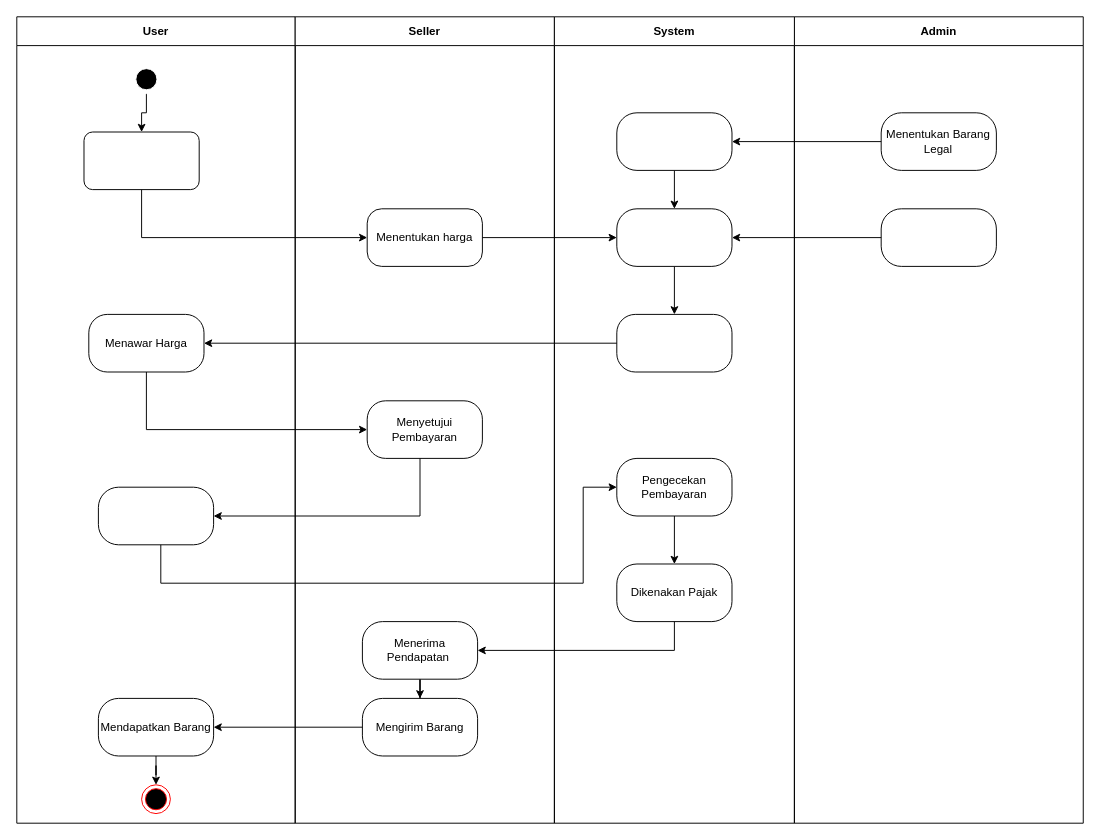
Some shapes in this 1100 by 840 pixel diagram are drawn without their labels. The shapes that lost their labels are listed below. From the top down, each one's centre as x and y in pixels, then its label:
point 141,160: Login/Register
point 674,141: Index Barang Legal
point 674,237: Menyimpan data Harga
point 938,237: Menentukan batasan harga
point 674,342: Menampilkan Di market
point 155,515: Transaksi Pembayaran
